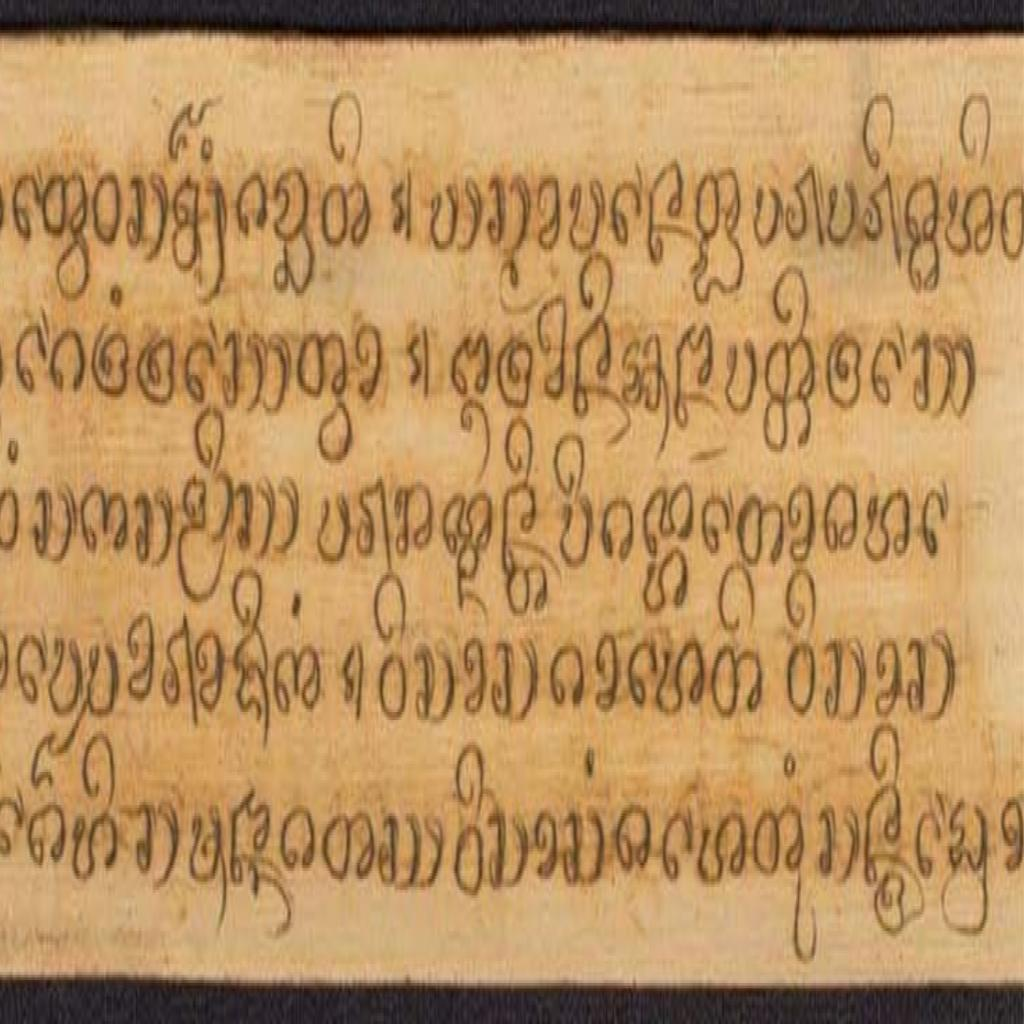LN014: (942, 788, 991, 947)
